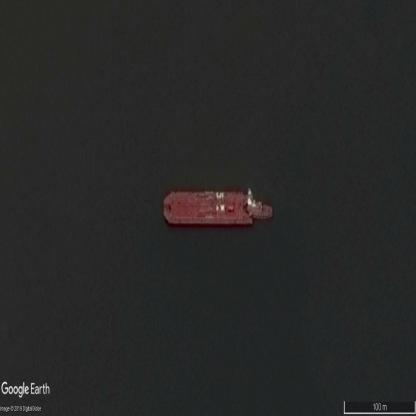ship: (163, 186, 274, 227)
